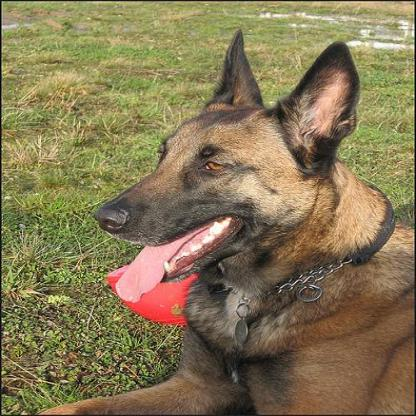malinois: (23, 24, 413, 414)
